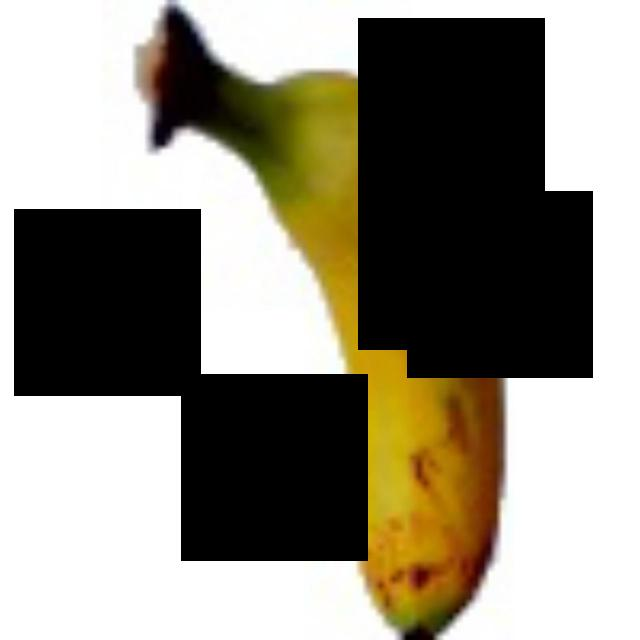banana: (122, 0, 634, 634)
